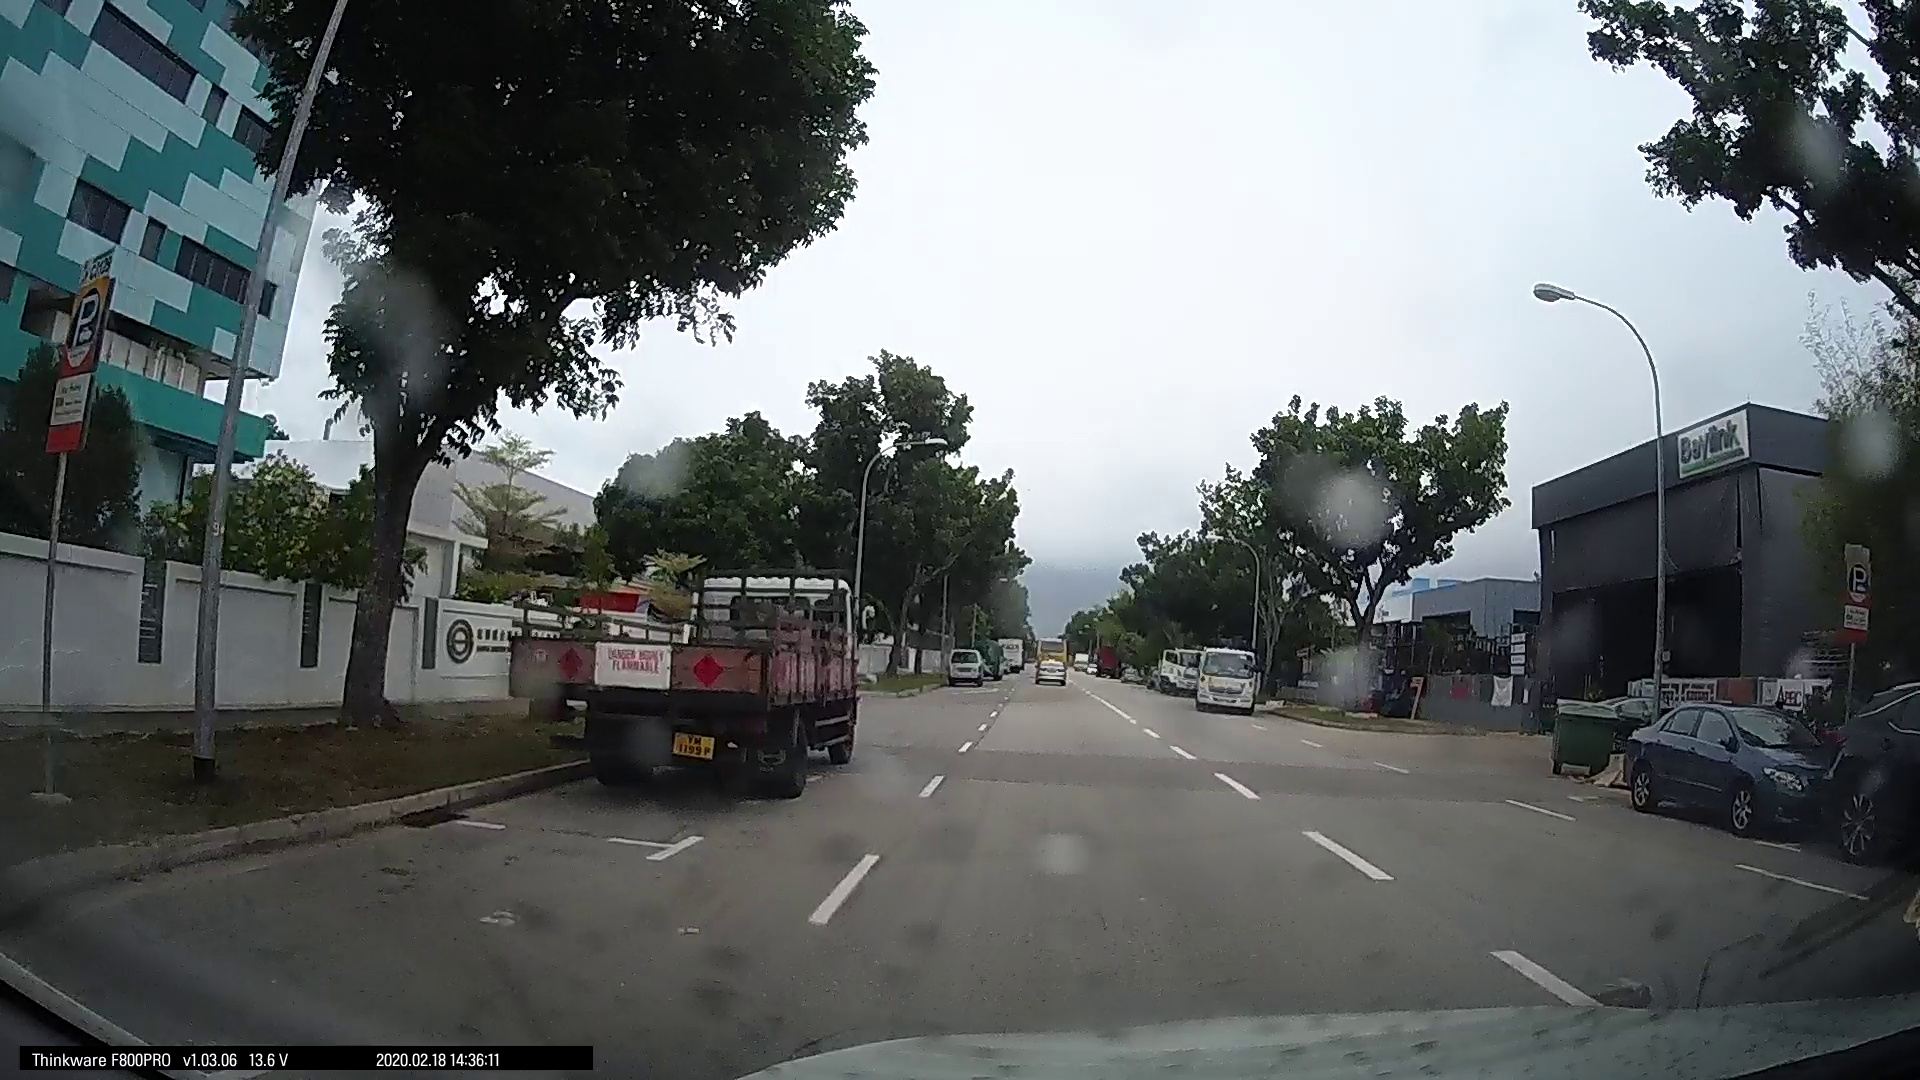Heavy Vehicle: (547, 559, 866, 790)
Light Vehicle: (1618, 699, 1837, 833), (1183, 644, 1258, 712), (943, 642, 992, 686), (1026, 644, 1067, 683)
